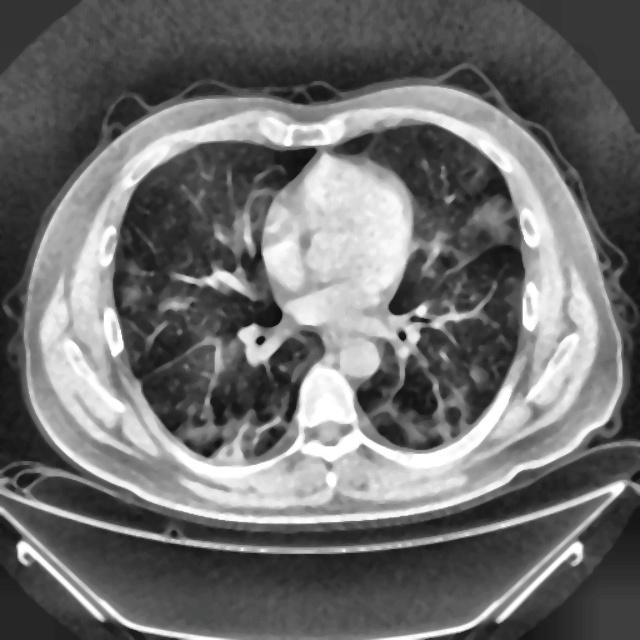covid: (12, 72, 634, 533)
